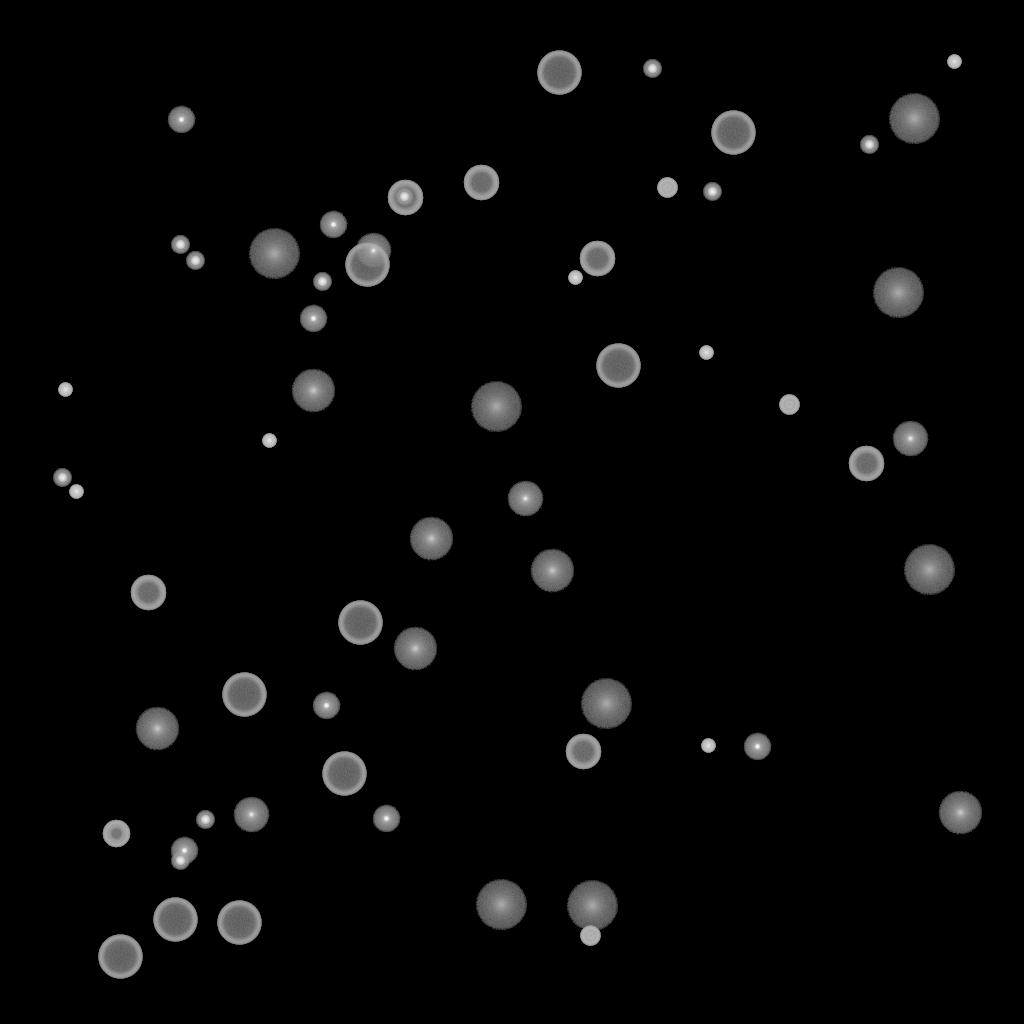depth:-10: (167, 106, 195, 134), (312, 692, 340, 720), (299, 305, 327, 333), (743, 733, 771, 761), (319, 211, 347, 239), (170, 837, 198, 865), (372, 805, 400, 833)
depth:-20: (171, 236, 189, 254), (395, 188, 413, 206), (186, 252, 204, 270), (703, 183, 721, 201), (313, 273, 331, 291), (643, 60, 661, 78), (171, 852, 189, 870), (196, 811, 214, 829), (860, 136, 878, 154), (53, 469, 71, 487)
depth:-30: (701, 739, 715, 753), (58, 383, 72, 397), (947, 55, 961, 69), (699, 346, 713, 360), (262, 434, 276, 448), (69, 485, 83, 499), (568, 271, 582, 285)
depth:-40: (779, 395, 799, 415), (657, 178, 677, 198), (580, 926, 600, 946)
depth:-50: (102, 820, 130, 848)
depth:-60: (463, 165, 499, 201), (848, 446, 884, 482), (387, 180, 423, 216), (565, 734, 601, 770), (579, 241, 615, 277), (130, 575, 166, 611)
depth:-70: (98, 935, 142, 979), (153, 898, 197, 942), (322, 752, 366, 796), (596, 344, 640, 388), (345, 243, 389, 287), (338, 601, 382, 645), (222, 673, 266, 717), (537, 51, 581, 95), (711, 111, 755, 155), (217, 901, 261, 945)
depth:0: (233, 797, 269, 833), (892, 421, 928, 457), (507, 481, 543, 517), (355, 233, 391, 269)
depth:10: (530, 549, 574, 593), (291, 369, 335, 413), (938, 791, 982, 835), (393, 627, 437, 671), (135, 707, 179, 751), (409, 517, 453, 561)
depth:20: (475, 880, 527, 930), (872, 268, 924, 318), (470, 382, 522, 432), (580, 679, 632, 729), (566, 881, 618, 931), (888, 94, 940, 144), (903, 545, 955, 595), (248, 229, 300, 279)
